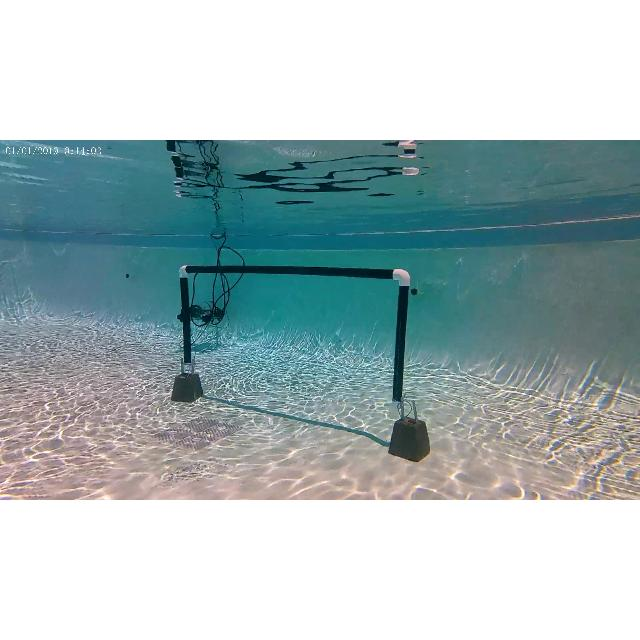prequal gate: (180, 264, 410, 408)
prequal gate leg l: (177, 262, 206, 378)
prequal gate leg r: (382, 265, 413, 411)
